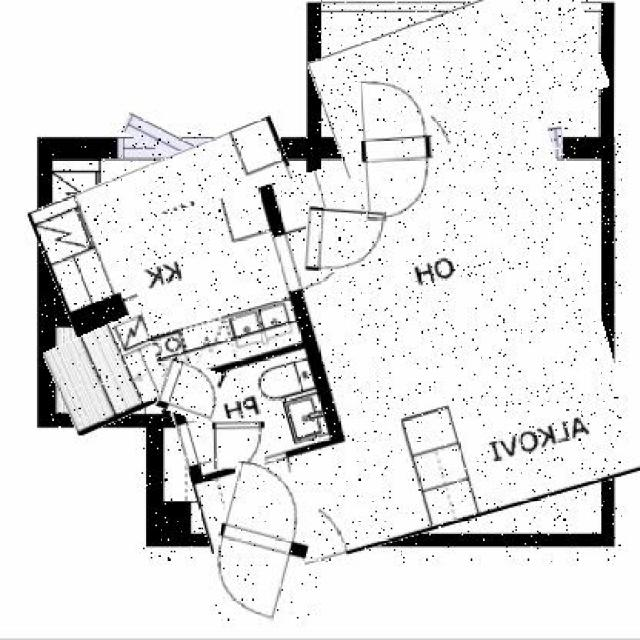door: (209, 465, 317, 620), (360, 76, 434, 222), (303, 208, 385, 274), (158, 362, 222, 420), (212, 418, 265, 469)
window: (120, 125, 232, 169), (429, 130, 563, 162)
zone: (140, 134, 622, 563), (40, 137, 320, 345), (314, 0, 603, 155), (165, 323, 312, 425), (49, 318, 171, 428)
